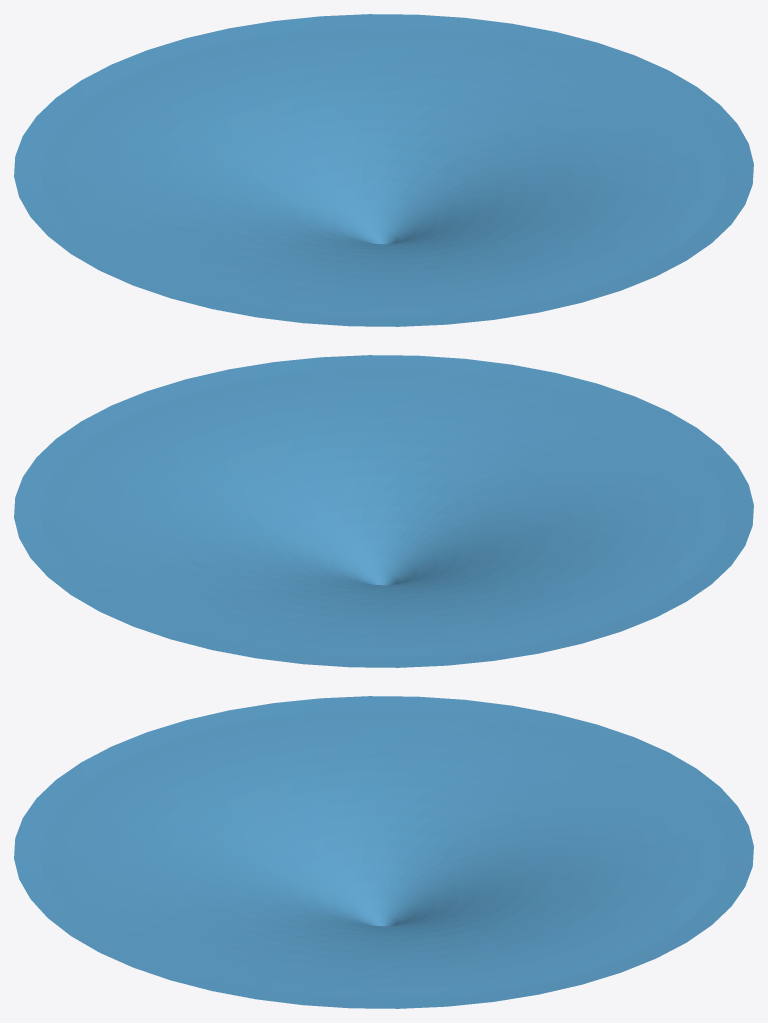
Rendered from KrakenWhirlpool.fbx.
3 views of the same model, one above another, from view 1: azimuth 30°, elevation 25°; view 2: azimuth 150°, elevation 25°; view 3: azimuth 270°, elevation 25° (orthographic).
Parts seen in each view (by area): view 1: Whirlpool; view 2: Whirlpool; view 3: Whirlpool.
Part boxes in pixels (x1,y1,x2,y2): Whirlpool: [14, 14, 753, 326]; Whirlpool: [14, 355, 753, 667]; Whirlpool: [14, 696, 753, 1008].
Size of the model in its own units: 59.95 by 7.12 by 59.95.
